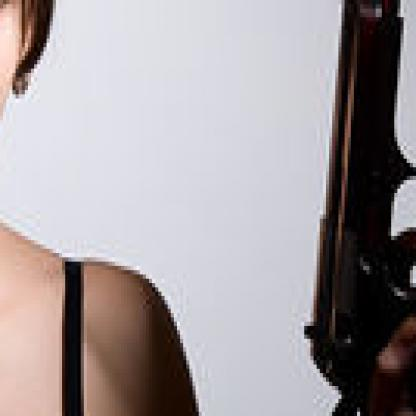gun: (286, 0, 413, 412)
